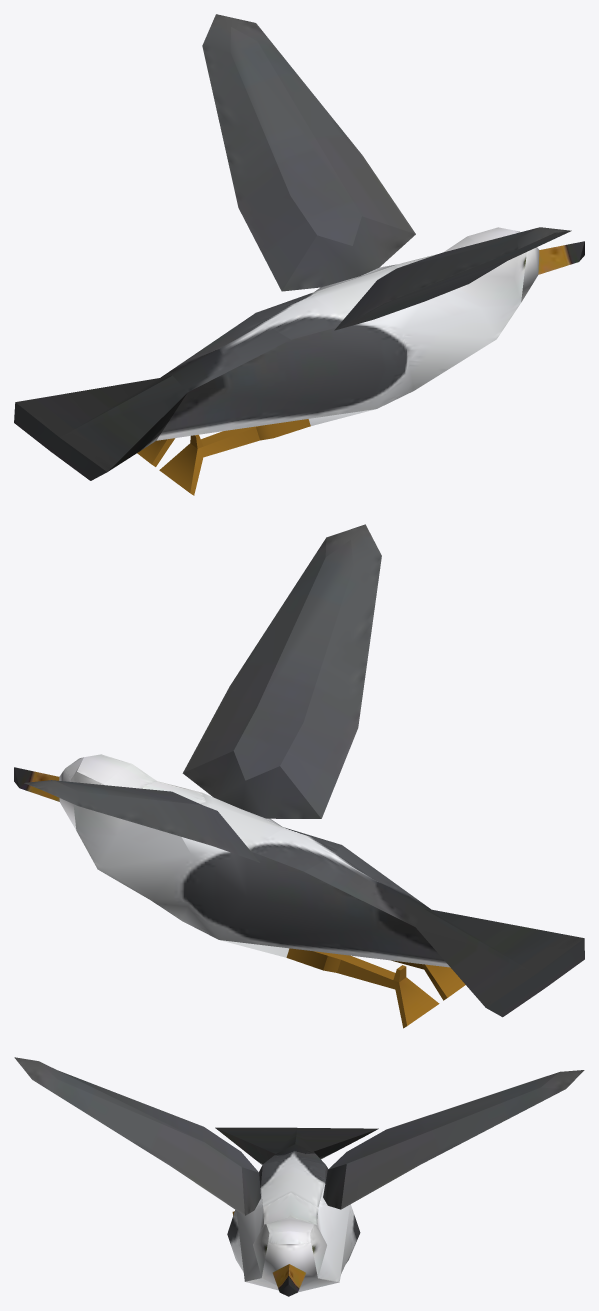
Rendered from other-flying-gull-280.glb.
The picture shows the model from 3 angles, top to bottom: view 1: azimuth 30°, elevation 25°; view 2: azimuth 150°, elevation 25°; view 3: azimuth 270°, elevation 25°; orthographic projection. The views are drawn at different scales.
Parts seen in each view (by area): view 1: Flying_seagull; view 2: Flying_seagull; view 3: Flying_seagull.
Boxes of the visible parts, bbox=[...] form: Flying_seagull: bbox=[14, 14, 584, 495]; Flying_seagull: bbox=[14, 524, 584, 1028]; Flying_seagull: bbox=[14, 1057, 584, 1296].
Bounding box in the file's own units: 82.16 × 44.24 × 88.47.
Materials: 1 (1 with a texture image).
